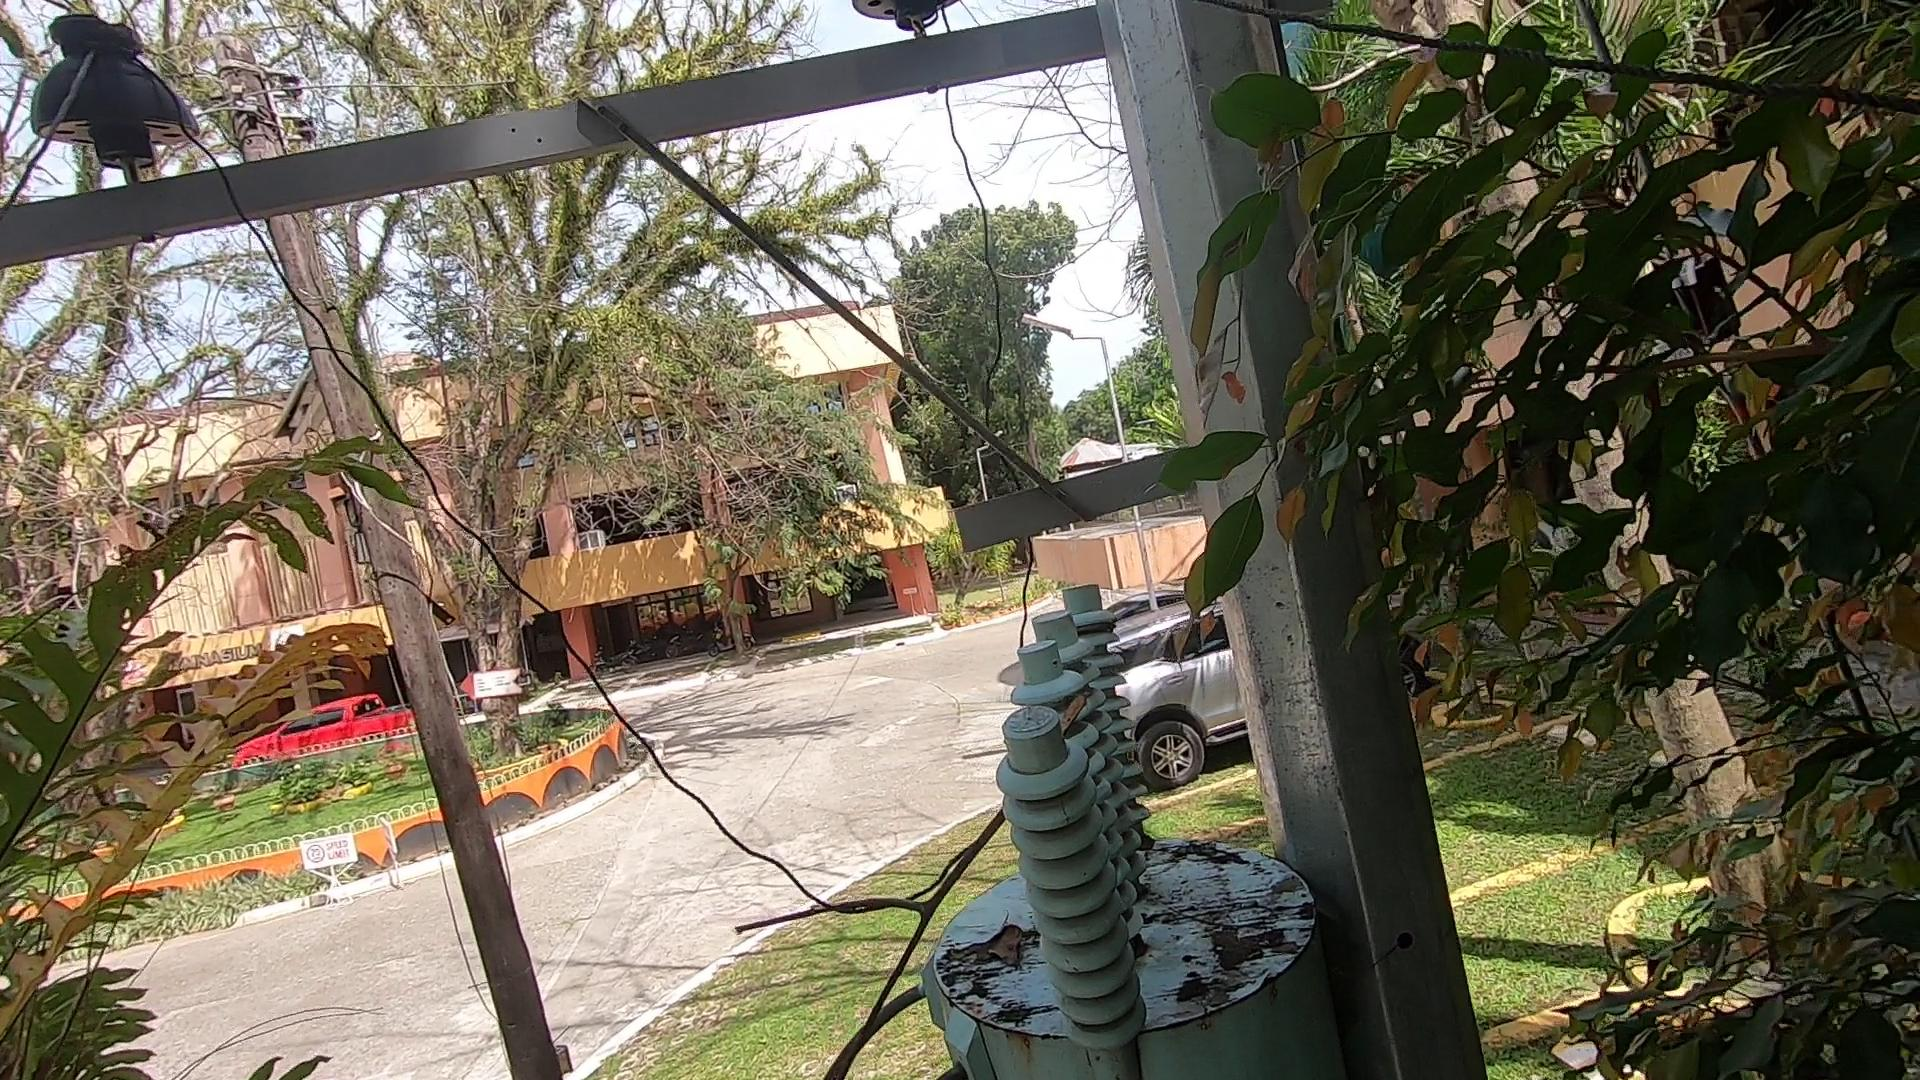leaf: (965, 898, 1040, 978)
tree branch: (695, 678, 1113, 1080)
